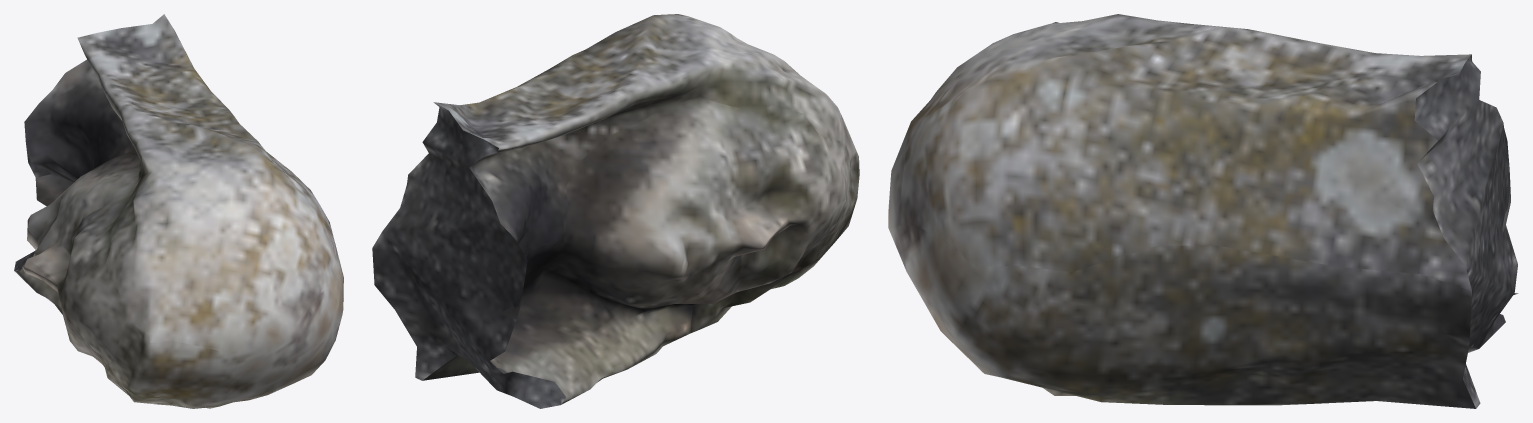
File: sm_GraveSculpture_08_03.fbx
3 renders of one model, left to right at view 1: azimuth 30°, elevation 25°; view 2: azimuth 150°, elevation 25°; view 3: azimuth 270°, elevation 25°, orthographic. The views are drawn at different scales.
Visible parts, largest first — view 1: sm_GraveSculpture_08_03_LOD0; view 2: sm_GraveSculpture_08_03_LOD0; view 3: sm_GraveSculpture_08_03_LOD0.
Part boxes in pixels (<box>): sm_GraveSculpture_08_03_LOD0: <box>14,14,343,408</box>; sm_GraveSculpture_08_03_LOD0: <box>372,14,859,408</box>; sm_GraveSculpture_08_03_LOD0: <box>888,14,1518,408</box>.
Size of the model in its own units: 24.48 by 36.77 by 22.15.
